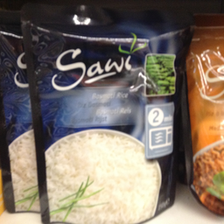rice: (20, 3, 183, 224)
